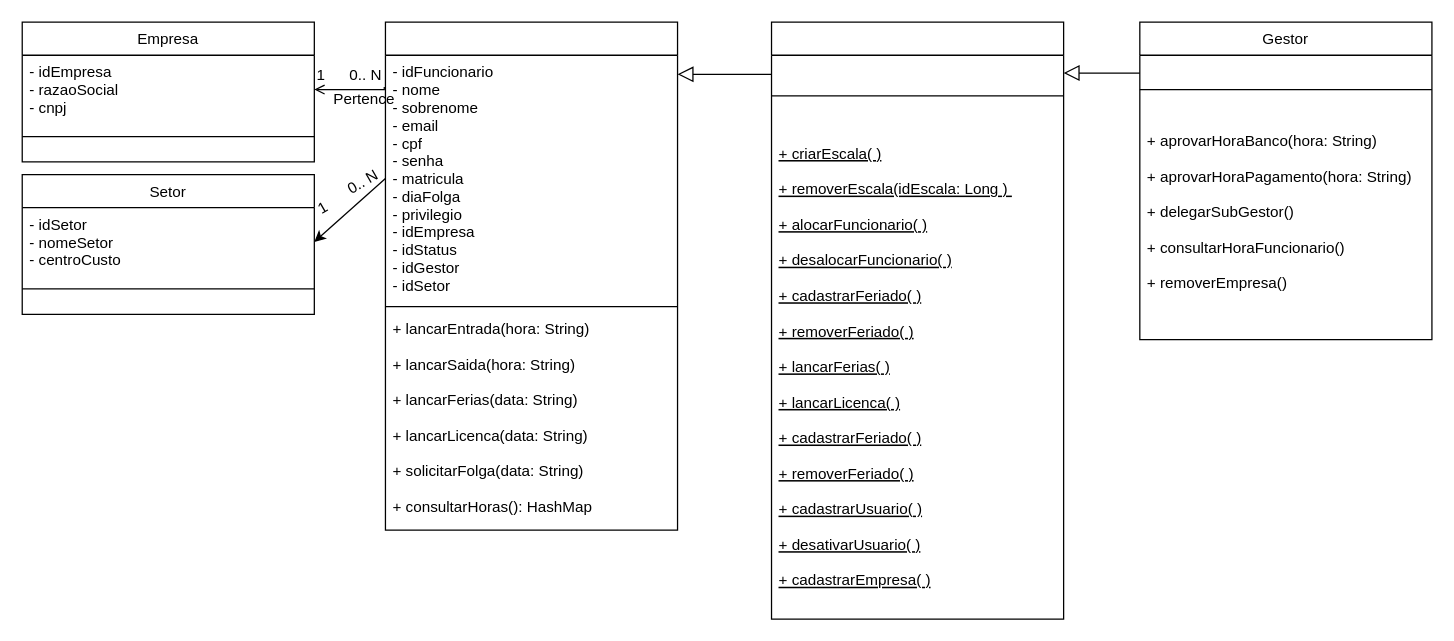
This 1454x641 diagram has some shape labels left out. Each missing label, with the box of its shape:
Funcionário: (384, 21, 678, 530)
SubGestor: (770, 21, 1064, 619)
